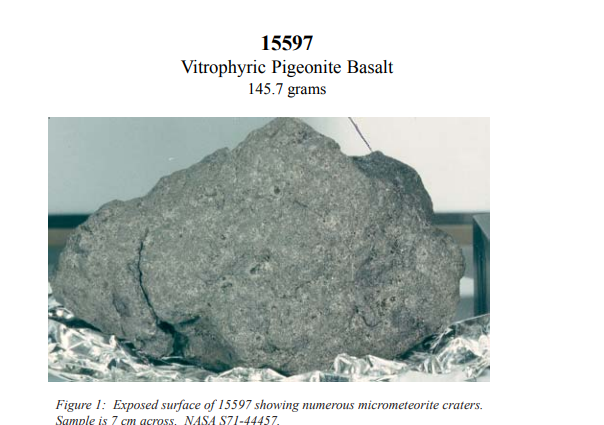Basalt: (37, 116, 494, 378)
